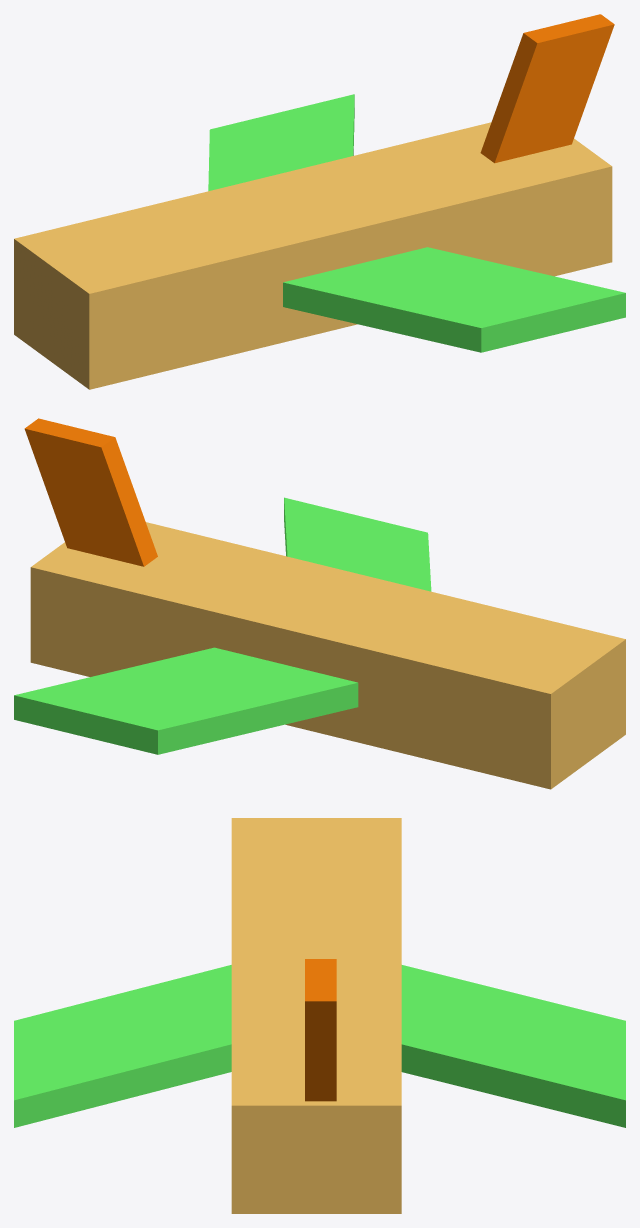
Rendered from simplePlane.dae.
3 renders of one model, top to bottom at view 1: azimuth 30°, elevation 25°; view 2: azimuth 150°, elevation 25°; view 3: azimuth 270°, elevation 25°, orthographic. The views are drawn at different scales.
Parts seen in each view (by area): view 1: SketchUp (×4); view 2: SketchUp (×4); view 3: SketchUp (×4).
Boxes of the visible parts, x1=… form: SketchUp (×4): x1=14, y1=14, x2=625, y2=389; SketchUp (×4): x1=14, y1=418, x2=625, y2=789; SketchUp (×4): x1=14, y1=818, x2=625, y2=1213.
Size of the model in its own units: 51.28 by 43.22 by 18.05.
